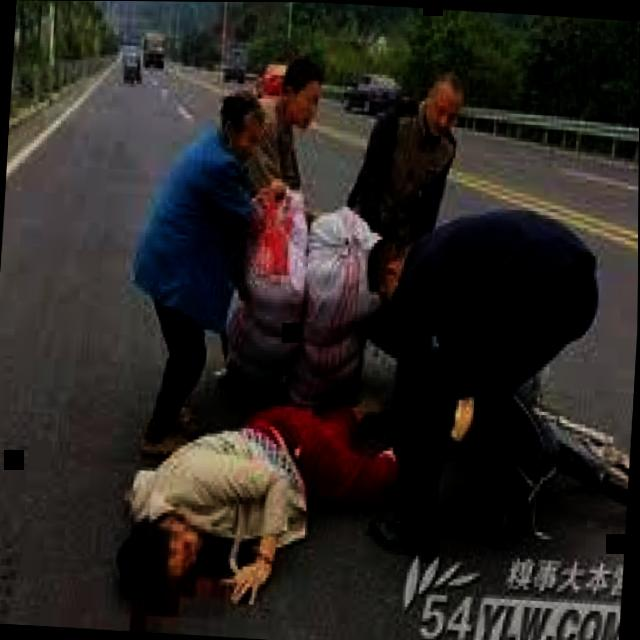Fall-Detected: (99, 351, 417, 623)
